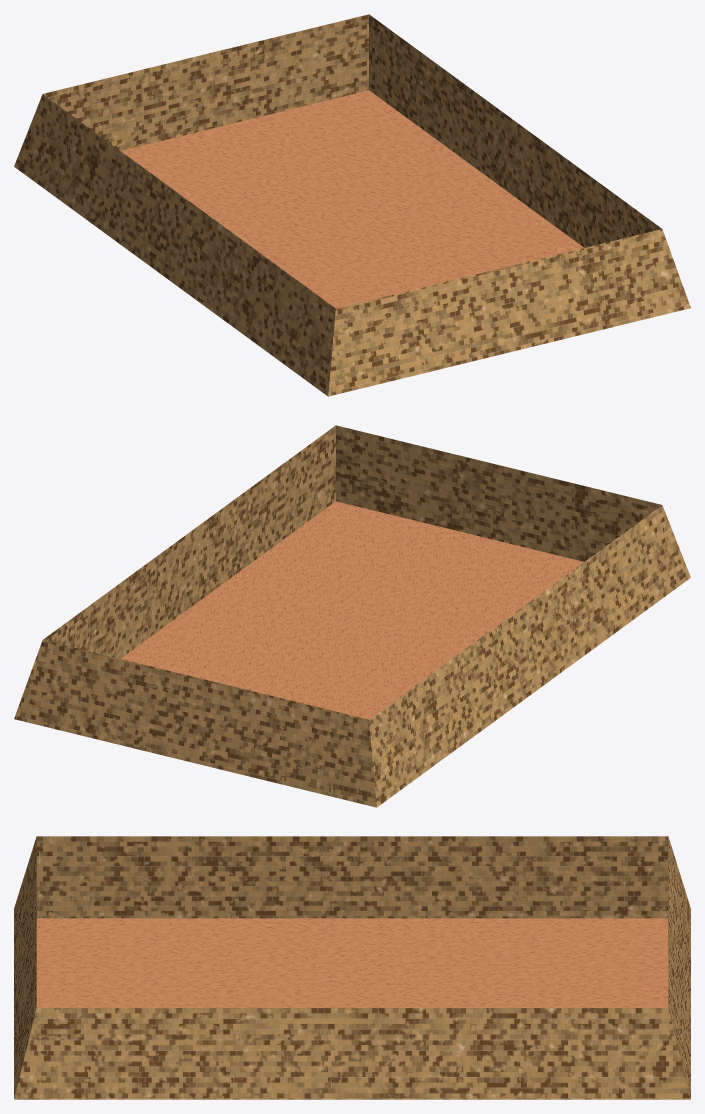
Rendered from speelveld nieuw.fbx.
The picture shows the model from 3 angles, top to bottom: view 1: azimuth 30°, elevation 25°; view 2: azimuth 150°, elevation 25°; view 3: azimuth 270°, elevation 25°; orthographic projection. The views are drawn at different scales.
Visible parts, largest first — view 1: Kubus, Vlak; view 2: Kubus, Vlak; view 3: Kubus, Vlak.
Part boxes in pixels (x1,y1,x2,y2): Kubus: [14, 14, 690, 396]; Vlak: [121, 90, 583, 308]; Kubus: [14, 425, 690, 807]; Vlak: [121, 501, 583, 719]; Kubus: [14, 836, 690, 1099]; Vlak: [36, 918, 668, 1007].
Size of the model in its own units: 2000 by 400 by 3000.
2 materials, 2 textured.
